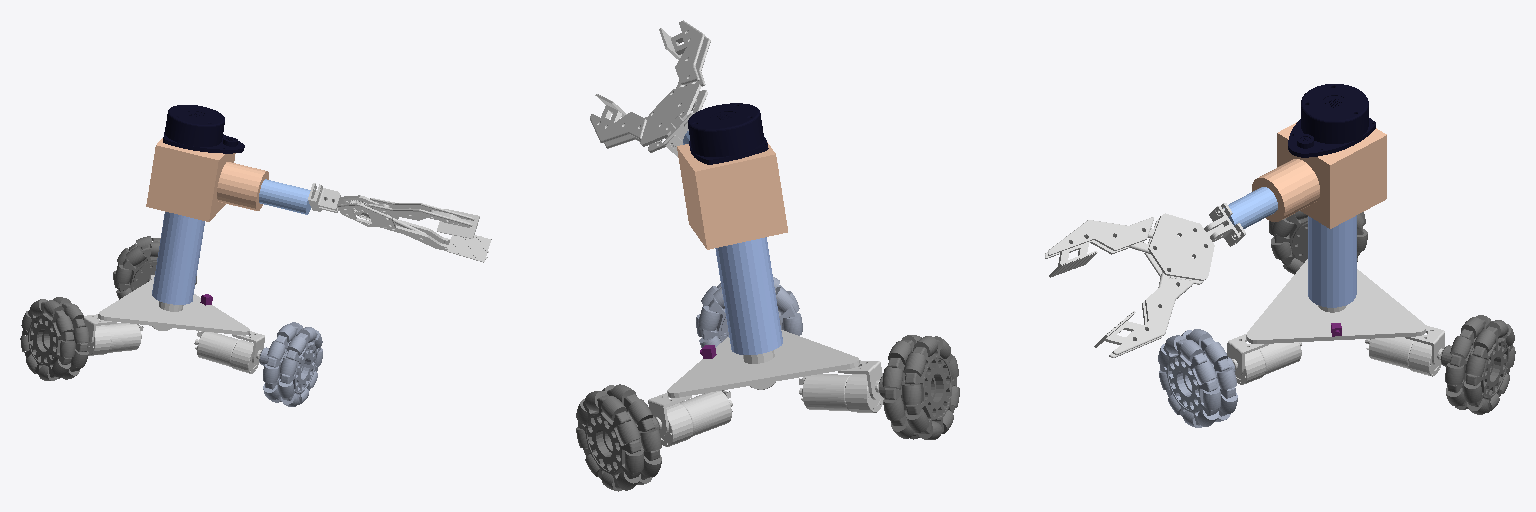
robot.urdf — test2:
<?xml version="1.0" encoding="utf-8"?>
<!-- This URDF was automatically created by SolidWorks to URDF Exporter! Originally created by [author] ([email redacted]) 
     Commit Version: 1.6.0-4-g7f85cfe  Build Version: 1.6.7995.38578
     For more information, please see http://wiki.ros.org/sw_urdf_exporter -->
<robot
  name="test2">
  <link
    name="base_link">
    <inertial>
      <origin
        xyz="0.040028 -0.037459 0.012975"
        rpy="0 0 0" />
      <mass
        value="0.41689" />
      <inertia
        ixx="0.00025746"
        ixy="1.5296E-05"
        ixz="3.6194E-05"
        iyy="0.00025012"
        iyz="1.7076E-06"
        izz="0.00043287" />
    </inertial>
    <visual>
      <origin
        xyz="0 0 0"
        rpy="0 0 0" />
      <geometry>
        <mesh
          filename="package://test2/meshes/base_link.STL" />
      </geometry>
      <material
        name="">
        <color
          rgba="0.86 0.86 0.86 1" />
      </material>
    </visual>
    <collision>
      <origin
        xyz="0 0 0"
        rpy="0 0 0" />
      <geometry>
        <mesh
          filename="package://test2/meshes/base_link.STL" />
      </geometry>
    </collision>
  </link>
  <link
    name="left">
    <inertial>
      <origin
        xyz="-2.7865E-07 -3.2374E-06 0.018561"
        rpy="0 0 0" />
      <mass
        value="0.21655" />
      <inertia
        ixx="4.533E-05"
        ixy="4.5395E-10"
        ixz="4.7164E-10"
        iyy="4.5335E-05"
        iyz="5.5112E-09"
        izz="8.2117E-05" />
    </inertial>
    <visual>
      <origin
        xyz="0 0 0"
        rpy="0 0 0" />
      <geometry>
        <mesh
          filename="package://test2/meshes/left.STL" />
      </geometry>
      <material
        name="">
        <color
          rgba="0.66667 0.69804 0.76863 1" />
      </material>
    </visual>
    <collision>
      <origin
        xyz="0 0 0"
        rpy="0 0 0" />
      <geometry>
        <mesh
          filename="package://test2/meshes/left.STL" />
      </geometry>
    </collision>
  </link>
  <joint
    name="j_left"
    type="continuous">
    <origin
      xyz="0.099982 -0.15171 -0.04349"
      rpy="-0.99276 -1.3921 0.032183" />
    <parent
      link="base_link" />
    <child
      link="left" />
    <axis
      xyz="0 0 1" />
    <dynamics
      damping="1"
      friction="1" />
  </joint>
  <link
    name="right">
    <inertial>
      <origin
        xyz="-0.0016082 -0.0018407 -0.018399"
        rpy="0 0 0" />
      <mass
        value="0.21655" />
      <inertia
        ixx="4.5609E-05"
        ixy="3.1377E-07"
        ixz="3.1483E-06"
        iyy="4.5693E-05"
        iyz="3.6202E-06"
        izz="8.148E-05" />
    </inertial>
    <visual>
      <origin
        xyz="0 0 0"
        rpy="0 0 0" />
      <geometry>
        <mesh
          filename="package://test2/meshes/right.STL" />
      </geometry>
      <material
        name="">
        <color
          rgba="0.50196 0.50196 0.50196 1" />
      </material>
    </visual>
    <collision>
      <origin
        xyz="0 0 0"
        rpy="0 0 0" />
      <geometry>
        <mesh
          filename="package://test2/meshes/right.STL" />
      </geometry>
    </collision>
  </link>
  <joint
    name="j_right"
    type="continuous">
    <origin
      xyz="0.073486 0.16723 -0.03893"
      rpy="-2.9127 -1.4098 1.0022" />
    <parent
      link="base_link" />
    <child
      link="right" />
    <axis
      xyz="0.086481 0.099223 0.9913" />
    <dynamics
      damping="1"
      friction="1" />
  </joint>
  <link
    name="back">
    <inertial>
      <origin
        xyz="1.02570555924469E-06 -3.08328110942835E-06 -0.018560503381811"
        rpy="0 0 0" />
      <mass
        value="0.216553745072946" />
      <inertia
        ixx="4.53302210397204E-05"
        ixy="-1.59816970956886E-09"
        ixz="1.7433800995639E-09"
        iyy="4.5334503096577E-05"
        iyz="-5.25061783509453E-09"
        izz="8.21171472208873E-05" />
    </inertial>
    <visual>
      <origin
        xyz="0 0 0"
        rpy="0 0 0" />
      <geometry>
        <mesh
          filename="package://test2/meshes/back.STL" />
      </geometry>
      <material
        name="">
        <color
          rgba="0.501960784313725 0.501960784313725 0.501960784313725 1" />
      </material>
    </visual>
    <collision>
      <origin
        xyz="0 0 0"
        rpy="0 0 0" />
      <geometry>
        <mesh
          filename="package://test2/meshes/back.STL" />
      </geometry>
    </collision>
  </link>
  <joint
    name="j_back"
    type="continuous">
    <origin
      xyz="-0.18606 -0.015866 0.0057445"
      rpy="-0.63894 -1.3587 0.73722" />
    <parent
      link="base_link" />
    <child
      link="back" />
    <axis
      xyz="0 0 1" />
    <dynamics
      damping="1"
      friction="1" />
  </joint>
  <link
    name="cam">
    <inertial>
      <origin
        xyz="0.003331 -0.004283 0.0054916"
        rpy="0 0 0" />
      <mass
        value="0.0010691" />
      <inertia
        ixx="1.8669E-08"
        ixy="1.2977E-09"
        ixz="1.6906E-23"
        iyy="1.7862E-08"
        iyz="-8.2718E-24"
        izz="1.9625E-08" />
    </inertial>
    <visual>
      <origin
        xyz="0 0 0"
        rpy="0 0 0" />
      <geometry>
        <mesh
          filename="package://test2/meshes/cam.STL" />
      </geometry>
      <material
        name="">
        <color
          rgba="0.5 0.2 0.5 1" />
      </material>
    </visual>
    <collision>
      <origin
        xyz="0 0 0"
        rpy="0 0 0" />
      <geometry>
        <mesh
          filename="package://test2/meshes/cam.STL" />
      </geometry>
    </collision>
  </link>
  <joint
    name="j_cam"
    type="fixed">
    <origin
      xyz="0.048662 0.0039548 0.0022701"
      rpy="3.0163 0.11592 -0.82776" />
    <parent
      link="base_link" />
    <child
      link="cam" />
    <axis
      xyz="0 0 0" />
    <dynamics
      damping="1"
      friction="1" />
  </joint>
  <link
    name="lidar">
    <inertial>
      <origin
        xyz="-0.012212 0.0015476 0.026233"
        rpy="0 0 0" />
      <mass
        value="1.1152" />
      <inertia
        ixx="0.00047431"
        ixy="4.4679E-05"
        ixz="2.4599E-05"
        iyy="0.00053073"
        iyz="-1.3659E-05"
        izz="0.00077279" />
    </inertial>
    <visual>
      <origin
        xyz="0 0 0"
        rpy="0 0 0" />
      <geometry>
        <mesh
          filename="package://test2/meshes/lidar.STL" />
      </geometry>
      <material
        name="">
        <color
          rgba="0.1 0.1 0.2 1" />
      </material>
    </visual>
    <collision>
      <origin
        xyz="0 0 0"
        rpy="0 0 0" />
      <geometry>
        <mesh
          filename="package://test2/meshes/lidar.STL" />
      </geometry>
    </collision>
  </link>
  <joint
    name="j_lidar"
    type="fixed">
    <origin
      xyz="0.04319 -0.0031603 0.20009"
      rpy="-0.037415 0.16634 -0.22234" />
    <parent
      link="base_link" />
    <child
      link="lidar" />
    <axis
      xyz="0 0 0" />
    <dynamics
      damping="1"
      friction="1" />
  </joint>
  <link
    name="tinhtien1">
    <inertial>
      <origin
        xyz="1.1102E-16 5.5511E-17 0.081256"
        rpy="0 0 0" />
      <mass
        value="0.27332" />
      <inertia
        ixx="0.00051321"
        ixy="-4.0658E-20"
        ixz="-2.287E-19"
        iyy="0.00051321"
        iyz="2.6258E-20"
        izz="8.9653E-05" />
    </inertial>
    <visual>
      <origin
        xyz="0 0 0"
        rpy="0 0 0" />
      <geometry>
        <mesh
          filename="package://test2/meshes/tinhtien1.STL" />
      </geometry>
      <material
        name="">
        <color
          rgba="0.7 0.8 1 1" />
      </material>
    </visual>
    <collision>
      <origin
        xyz="0 0 0"
        rpy="0 0 0" />
      <geometry>
        <mesh
          filename="package://test2/meshes/tinhtien1.STL" />
      </geometry>
    </collision>
  </link>
  <joint
    name="jointtinhtien1"
    type="prismatic">
    <origin
      xyz="0.0019308 0 0.011217"
      rpy="-0.12201 -0.11932 -2.3414" />
    <parent
      link="base_link" />
    <child
      link="tinhtien1" />
    <axis
      xyz="0 0 1" />
    <limit
      lower="0"
      upper="0"
      effort="0"
      velocity="0" />
  </joint>
  <link
    name="xoay">
    <inertial>
      <origin
        xyz="-0.0084172 0.046405 -1.1102E-16"
        rpy="0 0 0" />
      <mass
        value="0.523" />
      <inertia
        ixx="0.00051905"
        ixy="-1.2395E-05"
        ixz="1.4908E-19"
        iyy="0.00079735"
        iyz="-4.0658E-20"
        izz="0.00076117" />
    </inertial>
    <visual>
      <origin
        xyz="0 0 0"
        rpy="0 0 0" />
      <geometry>
        <mesh
          filename="package://test2/meshes/xoay.STL" />
      </geometry>
      <material
        name="">
        <color
          rgba="1 0.81961 0.7 1" />
      </material>
    </visual>
    <collision>
      <origin
        xyz="0 0 0"
        rpy="0 0 0" />
      <geometry>
        <mesh
          filename="package://test2/meshes/xoay.STL" />
      </geometry>
    </collision>
  </link>
  <joint
    name="jxoay"
    type="revolute">
    <origin
      xyz="0 0 0.11801"
      rpy="1.5708 0 -1.6134" />
    <parent
      link="tinhtien1" />
    <child
      link="xoay" />
    <axis
      xyz="0 1 0" />
    <limit
      lower="0"
      upper="0"
      effort="0"
      velocity="0" />
  </joint>
  <link
    name="tinhtien2">
    <inertial>
      <origin
        xyz="2.7756E-16 -1.6653E-16 -0.032424"
        rpy="0 0 0" />
      <mass
        value="0.070686" />
      <inertia
        ixx="6.2881E-05"
        ixy="0"
        ixz="-5.7492E-20"
        iyy="6.2881E-05"
        iyz="-9.635E-20"
        izz="7.9522E-06" />
    </inertial>
    <visual>
      <origin
        xyz="0 0 0"
        rpy="0 0 0" />
      <geometry>
        <mesh
          filename="package://test2/meshes/tinhtien2.STL" />
      </geometry>
      <material
        name="">
        <color
          rgba="0.7 0.81961 1 1" />
      </material>
    </visual>
    <collision>
      <origin
        xyz="0 0 0"
        rpy="0 0 0" />
      <geometry>
        <mesh
          filename="package://test2/meshes/tinhtien2.STL" />
      </geometry>
    </collision>
  </link>
  <joint
    name="jtinhtien2"
    type="prismatic">
    <origin
      xyz="-0.067576 0.043589 0"
      rpy="1.5708 0.1618 1.5708" />
    <parent
      link="xoay" />
    <child
      link="tinhtien2" />
    <axis
      xyz="0 0 1" />
    <limit
      lower="0"
      upper="0"
      effort="0"
      velocity="0" />
  </joint>
</robot>

--- What the picture shows (computed from the rendered views, not written in the file) ---
Views: 3 orthographic renders of the robot side by side, from view 1: azimuth 30°, elevation 25°; view 2: azimuth 150°, elevation 25°; view 3: azimuth 270°, elevation 25°.
Robot: test2 — 9 links, 8 joints (1 revolute, 3 continuous, 2 prismatic, 2 fixed); root link base_link; default pose: all joints at 0.
Visible links, largest first — view 1: base_link, xoay, back, left, tinhtien1, lidar, right, tinhtien2; view 2: base_link, xoay, right, back, tinhtien1, lidar, left; view 3: base_link, xoay, left, right, lidar, tinhtien1, back, tinhtien2.
Link boxes in pixels (left/top/right/bottom): base_link: left=84, top=183, right=491, bottom=373; xoay: left=146, top=138, right=268, bottom=221; back: left=20, top=297, right=89, bottom=380; left: left=259, top=322, right=322, bottom=406; tinhtien1: left=152, top=212, right=204, bottom=304; lidar: left=163, top=105, right=244, bottom=153; right: left=113, top=236, right=196, bottom=299; tinhtien2: left=259, top=179, right=310, bottom=214; base_link: left=590, top=20, right=883, bottom=446; xoay: left=677, top=142, right=787, bottom=249; right: left=576, top=384, right=661, bottom=491; back: left=879, top=335, right=959, bottom=439; tinhtien1: left=715, top=237, right=782, bottom=354; lidar: left=688, top=103, right=768, bottom=164; left: left=696, top=277, right=802, bottom=347; base_link: left=1045, top=203, right=1444, bottom=384; xoay: left=1252, top=122, right=1386, bottom=228; left: left=1158, top=329, right=1237, bottom=427; right: left=1441, top=315, right=1515, bottom=414; lidar: left=1288, top=84, right=1375, bottom=157; tinhtien1: left=1308, top=215, right=1356, bottom=307; back: left=1269, top=211, right=1367, bottom=274; tinhtien2: left=1224, top=187, right=1277, bottom=228.
Bounding box of the posed robot: 0.5108 × 0.4832 × 0.3445 m (x, y, z).
Meshes: 9 distinct files referenced, 9 mesh visuals loaded (9 binary STL).
